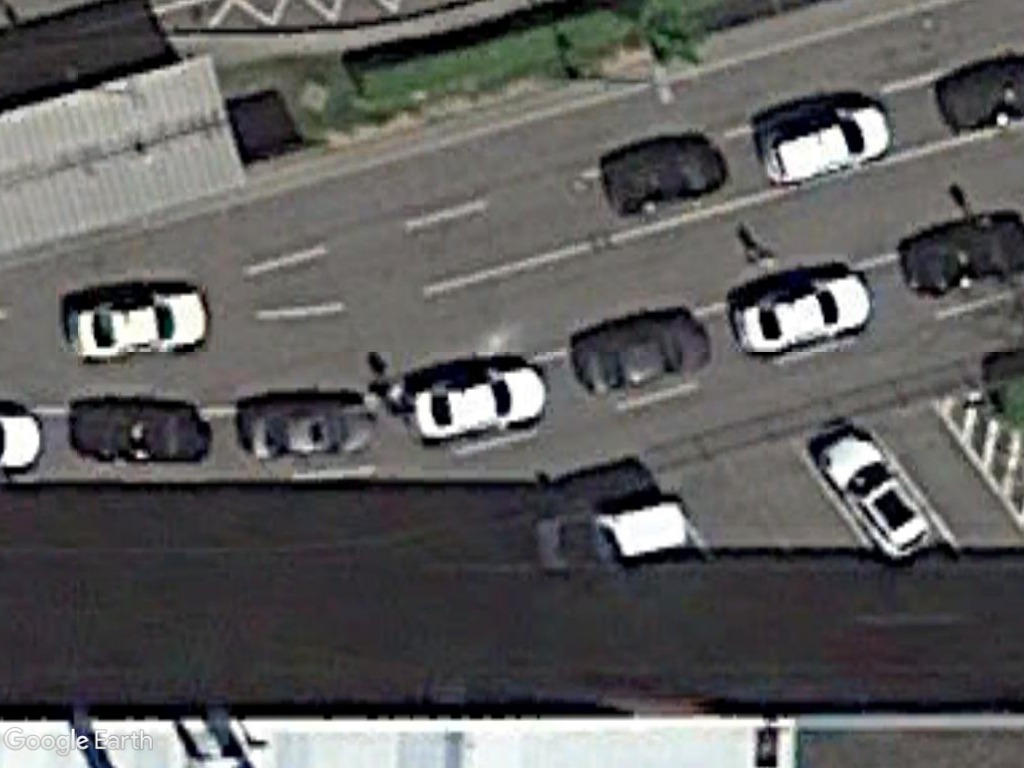car: (819, 429, 931, 564), (729, 270, 872, 362), (65, 286, 218, 365), (758, 100, 893, 186), (409, 362, 549, 444)
